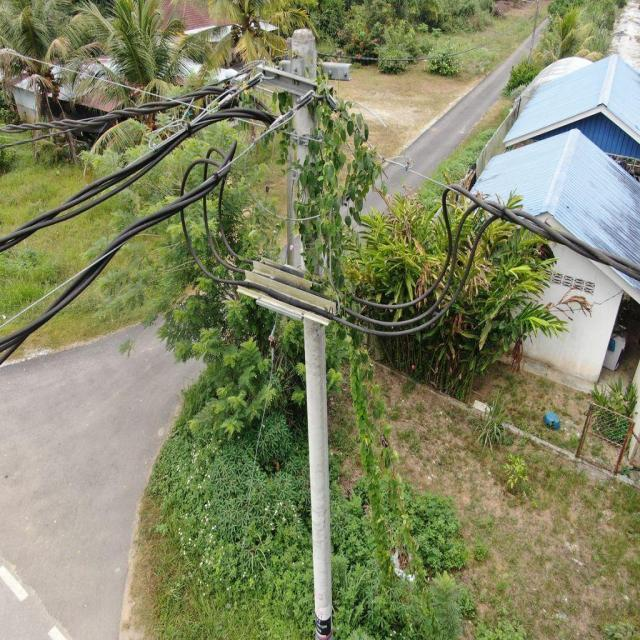critical vegetation: (264, 54, 434, 585)
